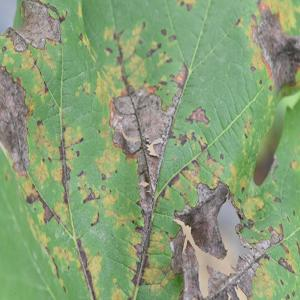Folha: (0, 0, 299, 299)
Fungo: (107, 22, 188, 300), (169, 178, 284, 300), (0, 0, 62, 177), (173, 178, 229, 260), (253, 0, 299, 97), (0, 62, 30, 177), (13, 0, 61, 51), (170, 61, 188, 89), (184, 106, 210, 125), (145, 136, 164, 158), (278, 256, 296, 274), (178, 129, 196, 146), (146, 41, 161, 57), (177, 0, 196, 11), (243, 116, 252, 138), (90, 211, 100, 226), (168, 34, 176, 41), (100, 183, 106, 190), (161, 28, 166, 36)
